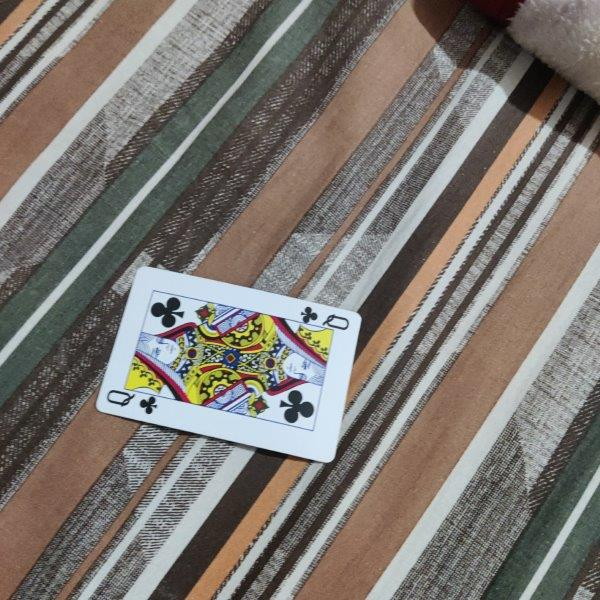Queen of Clubs: (95, 266, 362, 463)
